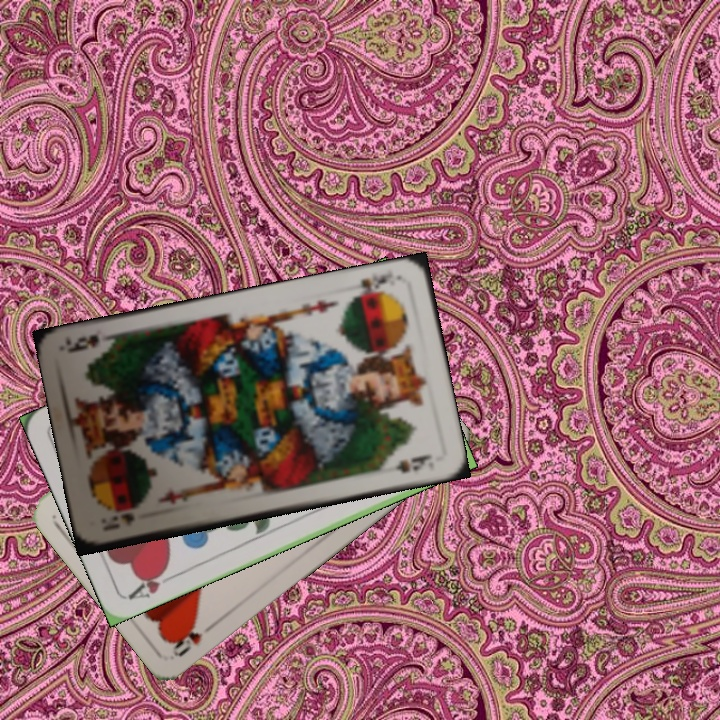HA: (124, 564, 180, 603)
HO: (166, 617, 218, 660)
SK: (348, 270, 391, 302), (98, 509, 138, 534)
